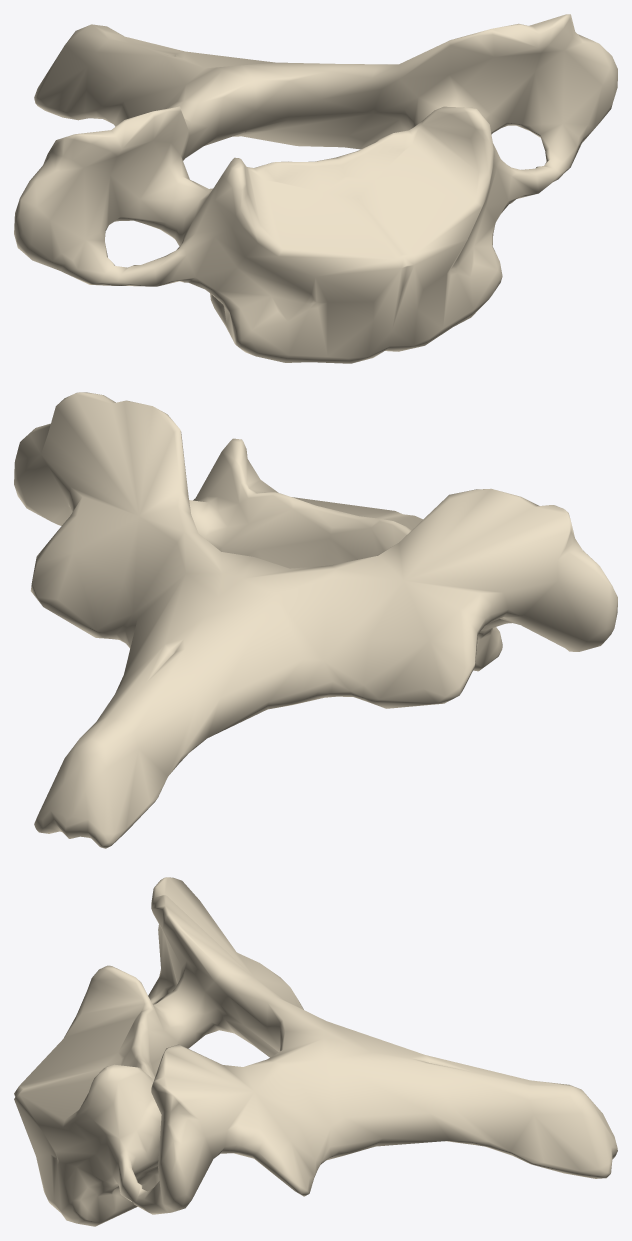
File: vertebra-c7.glb
The picture shows the model from 3 angles, top to bottom: view 1: azimuth 30°, elevation 25°; view 2: azimuth 150°, elevation 25°; view 3: azimuth 270°, elevation 25°; orthographic projection. The views are drawn at different scales.
Parts seen in each view (by area): view 1: Vertebra C7; view 2: Vertebra C7; view 3: Vertebra C7.
Boxes of the visible parts, <box> form: Vertebra C7: <box>14,14,617,363</box>; Vertebra C7: <box>14,392,617,848</box>; Vertebra C7: <box>14,877,617,1226</box>.
Bounding box in the file's own units: 0.0712 × 0.027 × 0.0703.
